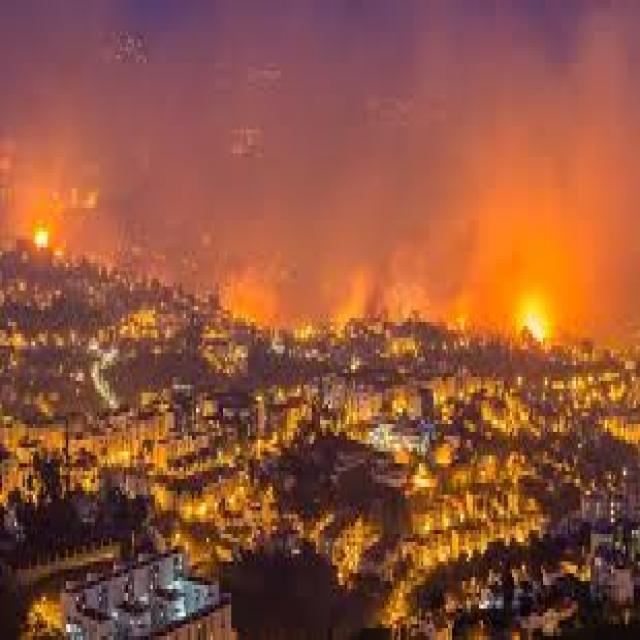Fire: (214, 121, 640, 337), (1, 144, 104, 262)
Smoke: (0, 0, 640, 187)
